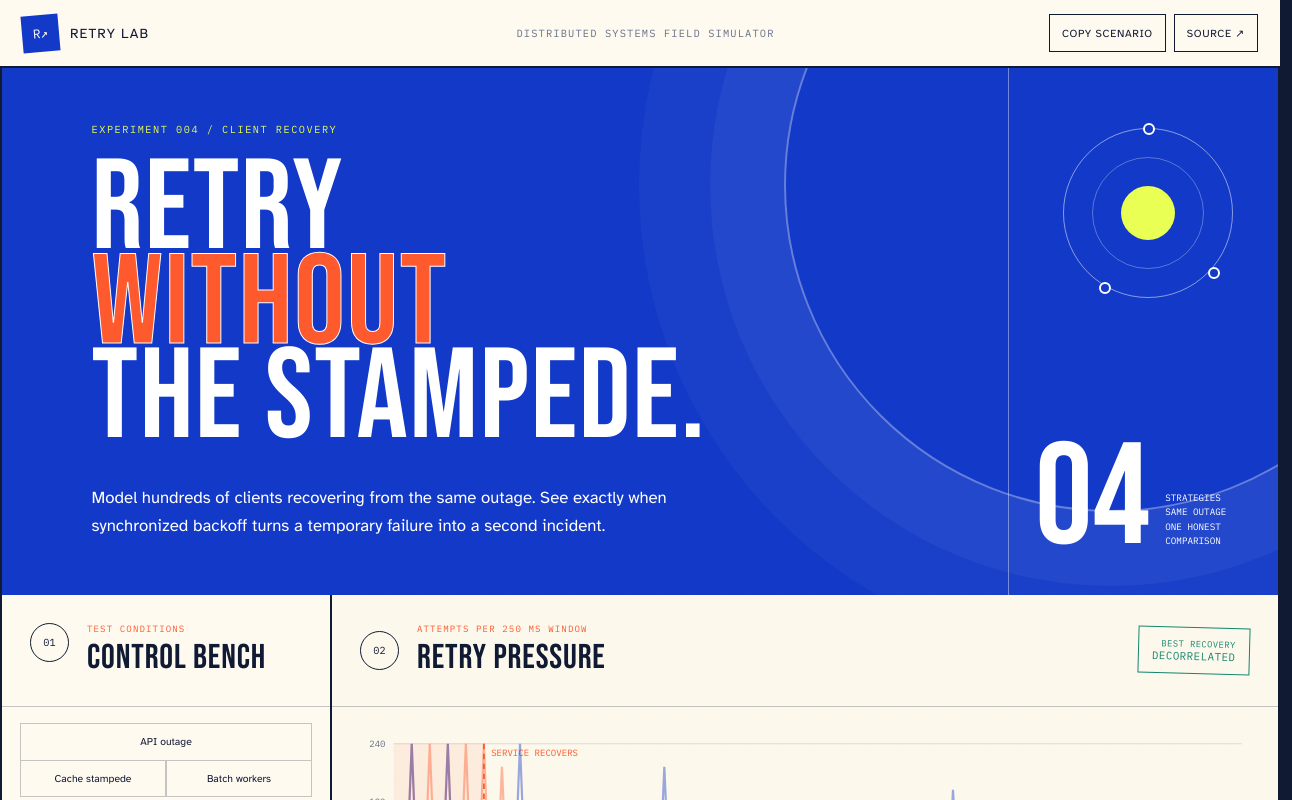
Retry Lab › copies a shareable deterministic scenario
Click the button "Copy scenario" at (1107, 33), box 1049,14 -> 1166,52
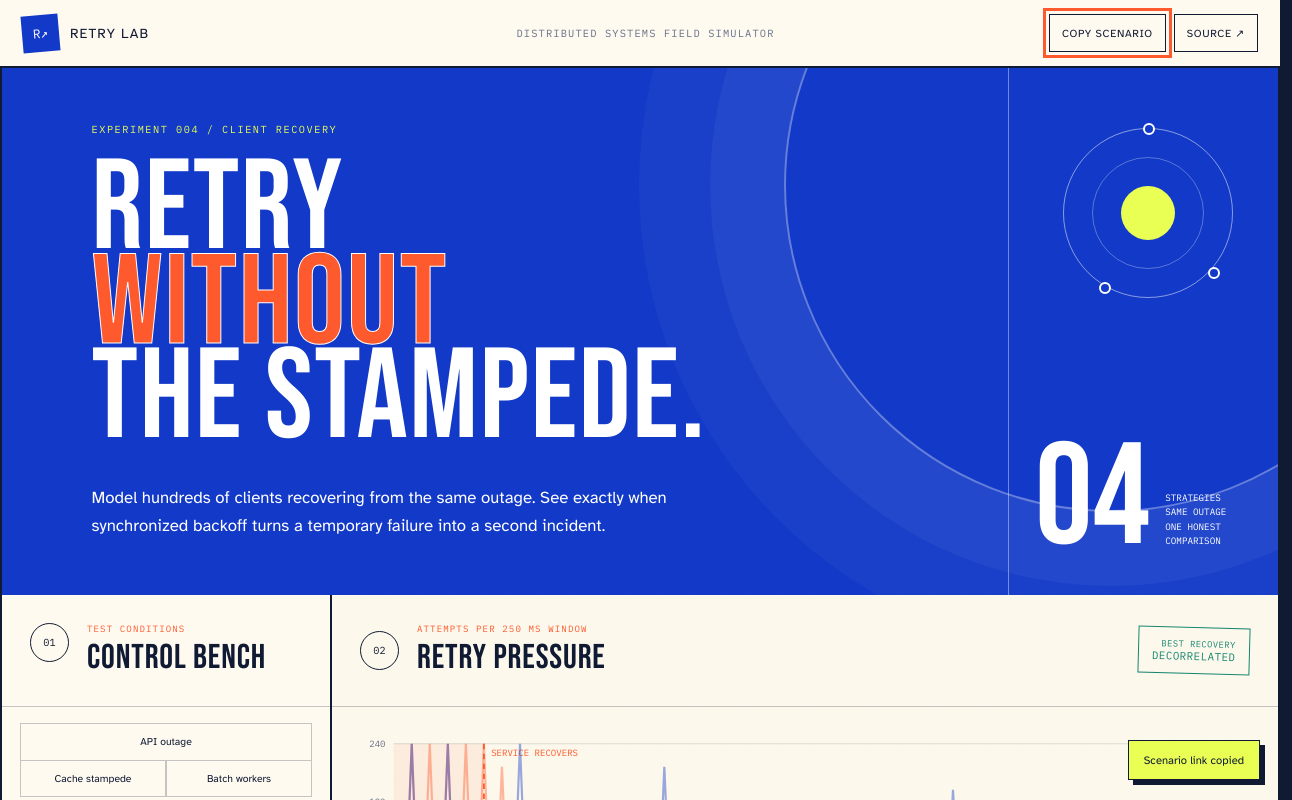
Expected: the text "Scenario link copied" is shown, 1128,740 -> 1260,780
